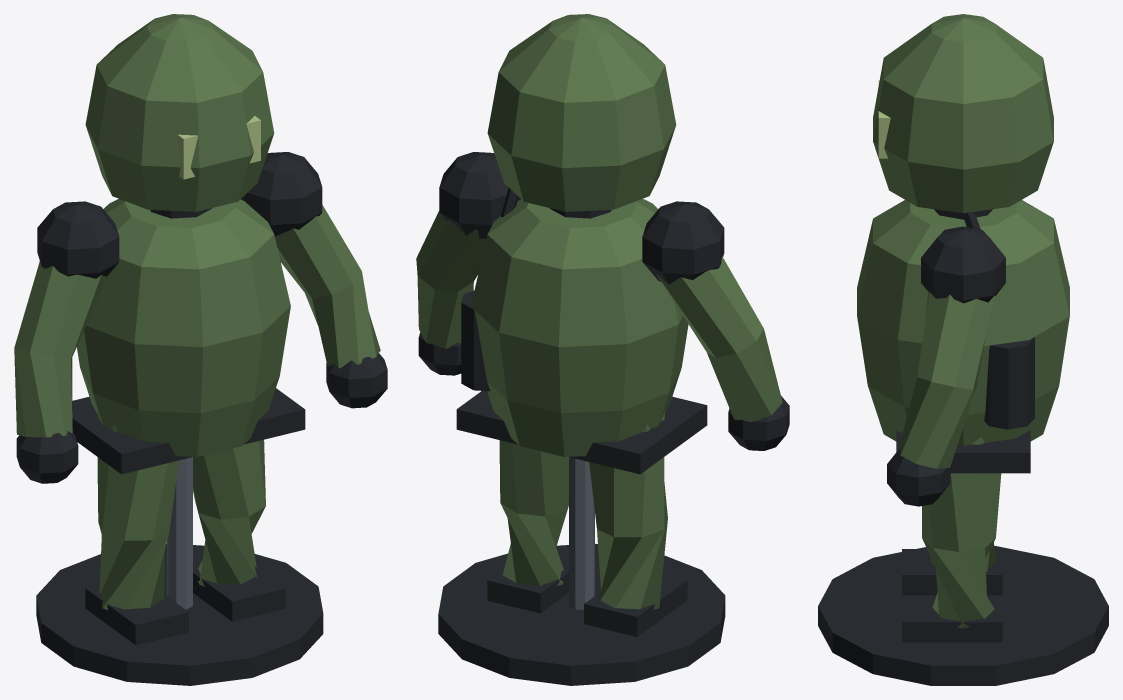
Rendered from chemical-suit.glb.
3 renders of one model, left to right at view 1: azimuth 30°, elevation 25°; view 2: azimuth 150°, elevation 25°; view 3: azimuth 270°, elevation 25°, orthographic.
Visible parts, largest first — view 1: m; view 2: m; view 3: m.
Boxes of the visible parts, bbox=[...] form: m: bbox=[14, 14, 387, 685]; m: bbox=[416, 14, 789, 685]; m: bbox=[818, 14, 1108, 685].
Bounding box in the file's own units: 0.352 × 0.56 × 0.2426.
